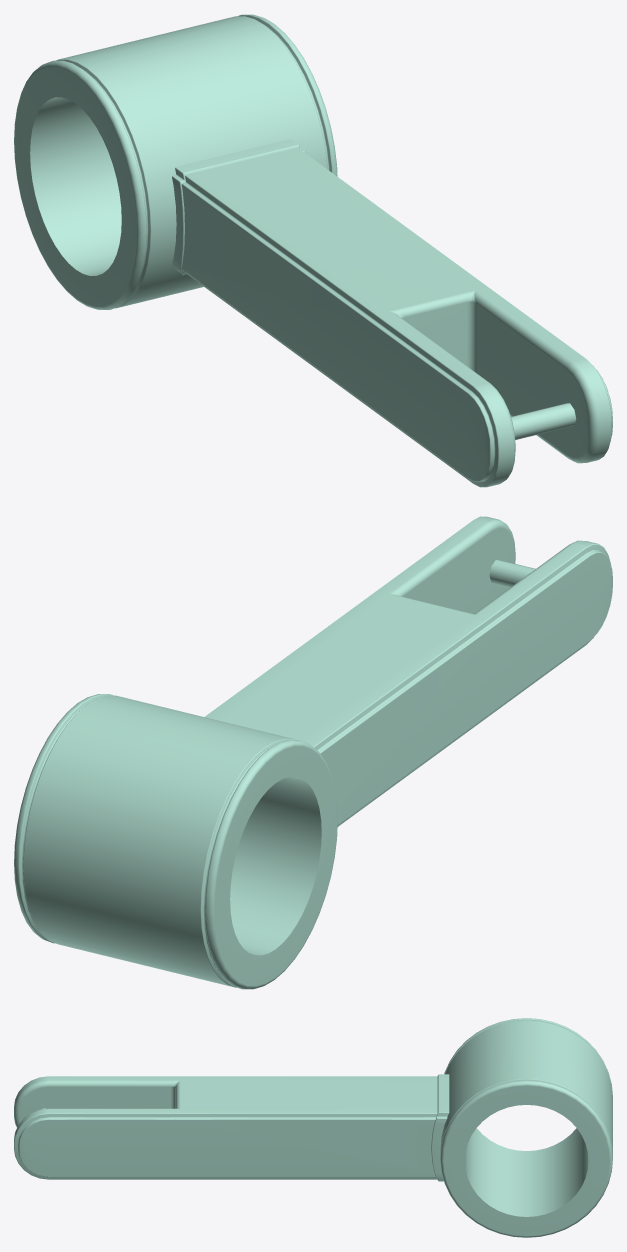
File: SM_Robot_Hand_part04.fbx
3 renders of one model, top to bottom at view 1: azimuth 30°, elevation 25°; view 2: azimuth 150°, elevation 25°; view 3: azimuth 270°, elevation 25°, orthographic. The views are drawn at different scales.
Parts seen in each view (by area): view 1: SM_Robot_Hand_part04; view 2: SM_Robot_Hand_part04; view 3: SM_Robot_Hand_part04.
Part boxes in pixels (x1,y1,x2,y2): SM_Robot_Hand_part04: (14, 14, 612, 487); SM_Robot_Hand_part04: (14, 516, 612, 989); SM_Robot_Hand_part04: (14, 1018, 612, 1237).
Bounding box in the file's own units: 30 × 33.2 × 115.
